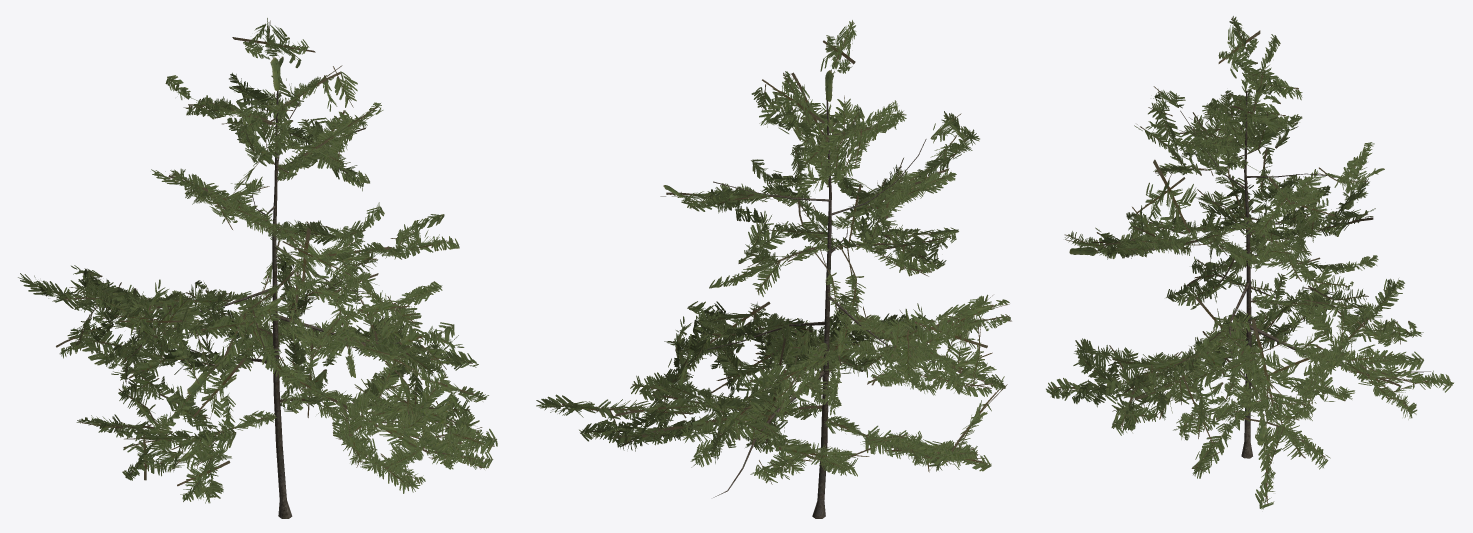
The picture shows the model from 3 angles, left to right: view 1: azimuth 30°, elevation 25°; view 2: azimuth 150°, elevation 25°; view 3: azimuth 270°, elevation 25°; orthographic projection. The views are drawn at different scales.
Visible parts, largest first — view 1: fir_sapling__c_lod0; view 2: fir_sapling__c_lod0; view 3: fir_sapling__c_lod0.
Boxes of the visible parts, bbox=[...] form: fir_sapling__c_lod0: bbox=[18, 18, 497, 518]; fir_sapling__c_lod0: bbox=[536, 20, 1011, 518]; fir_sapling__c_lod0: bbox=[1046, 16, 1453, 509].
Bounding box in the file's own units: 0.6296 × 0.7397 × 0.6426.
Materials: 2 (2 with a texture image).
